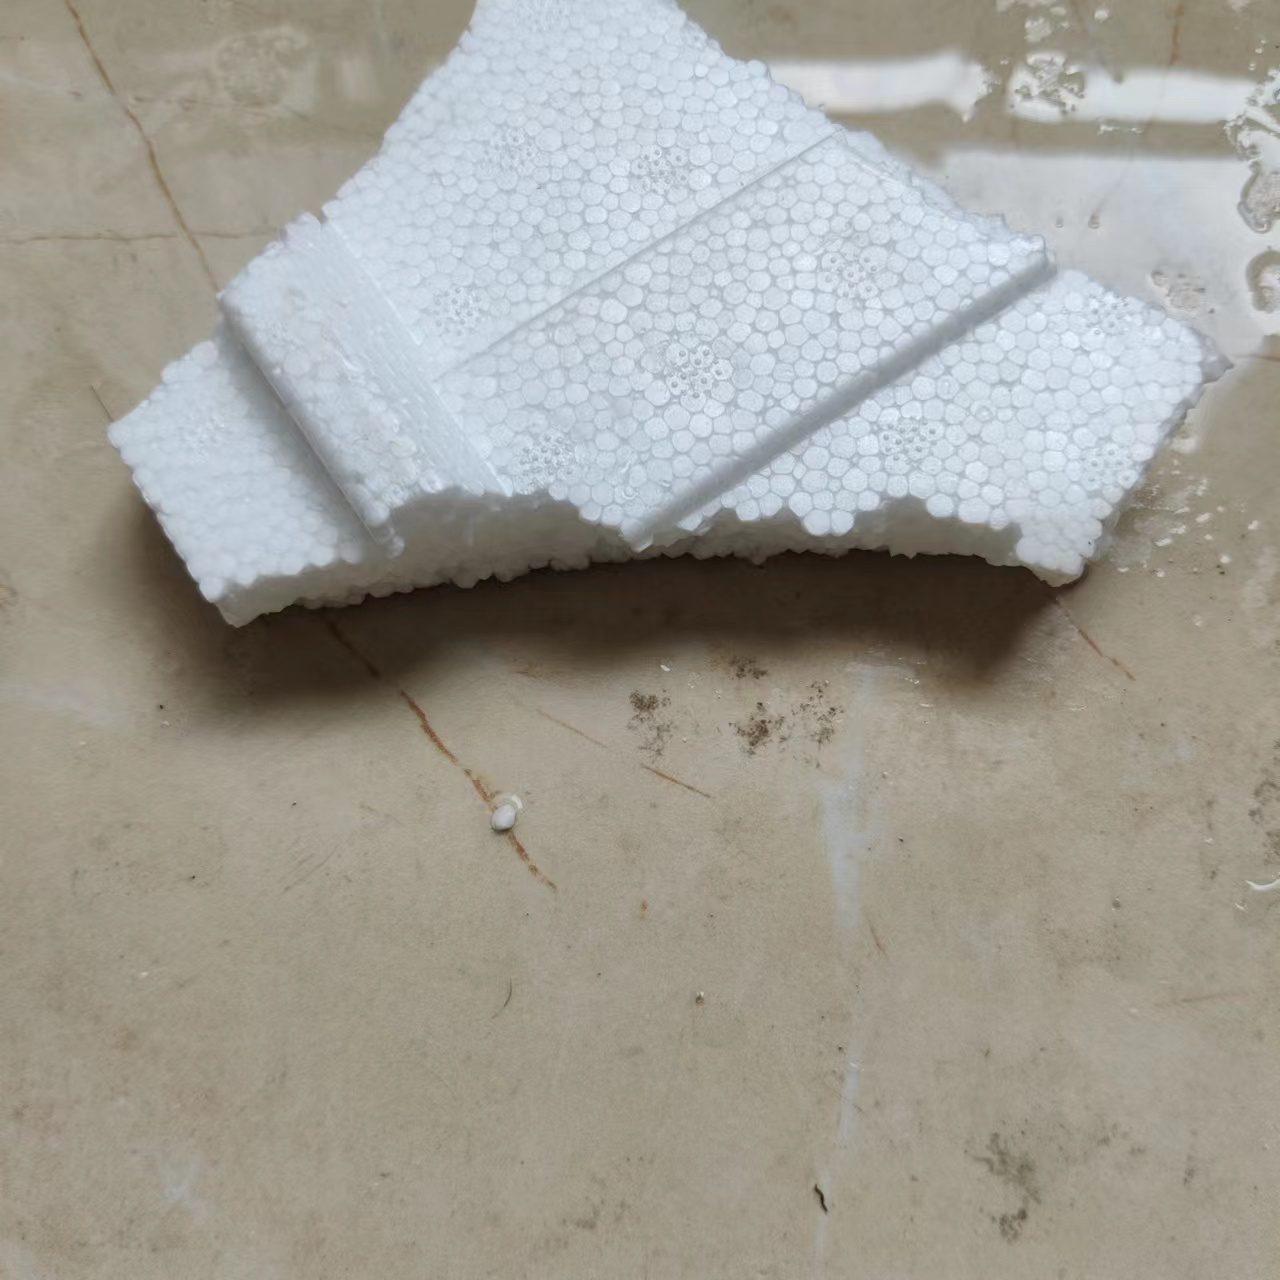5/可回收垃圾/泡沫: (105, 1, 1232, 629)
